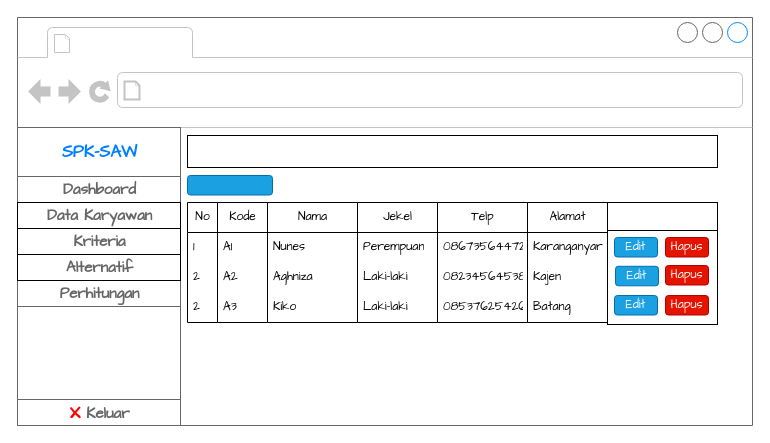
This 770x443 diagram has some shape labels left out. Here are the shapes that lost their labels. From the top down, the centre of each, then its label:
At point (132, 42): "LKT1".
At point (347, 90): "https://localhost/dashboard".
At point (452, 151): "Daftar Karyawan".
At point (229, 184): "Tambah".
At point (662, 220): "Aksi".
